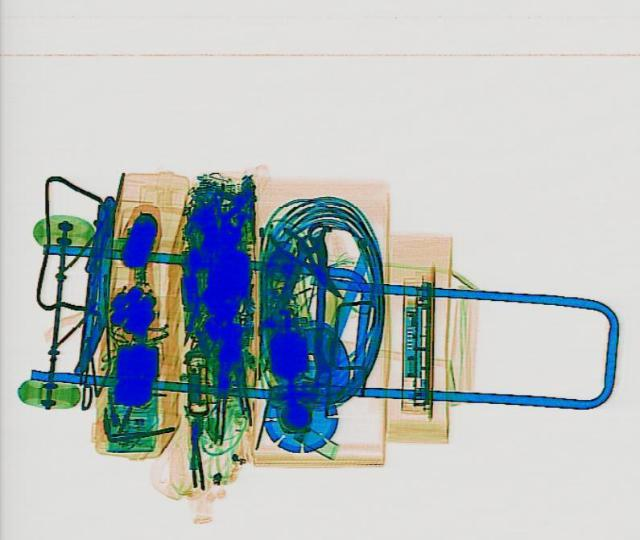Pliers: (262, 220, 354, 304)
Wrench: (252, 232, 320, 338), (304, 221, 330, 381)
